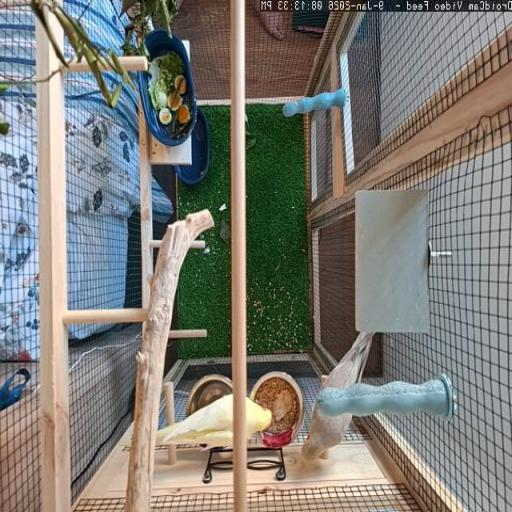bebedero: (186, 374, 232, 414)
comedero: (250, 371, 303, 447)
ninfa: (158, 396, 234, 446), (302, 400, 351, 461), (322, 333, 373, 388), (246, 398, 270, 437)
